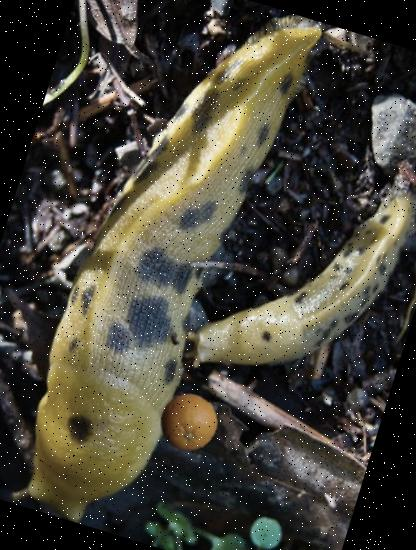Orange: (152, 386, 224, 458)
